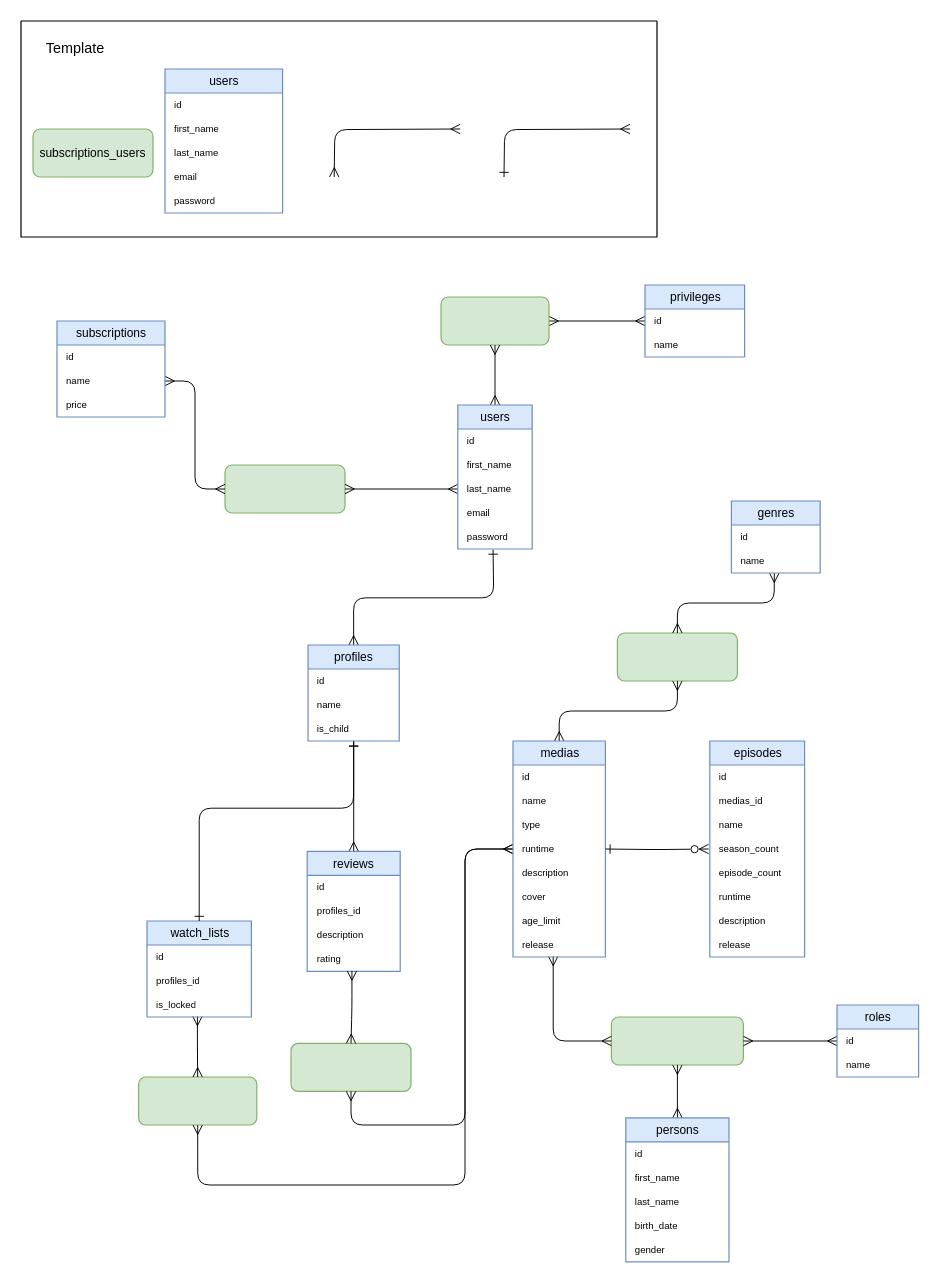
This 940x1283 diagram has some shape labels left out. Each missing label, with the centre of its shape:
medias_genres: the point at 676,656
medias_persons_roles: the point at 676,1040
medias_reviews: the point at 350,1066
users_privileges: the point at 494,320
users_subscriptions: the point at 284,488
watch_lists_medias: the point at 197,1100
